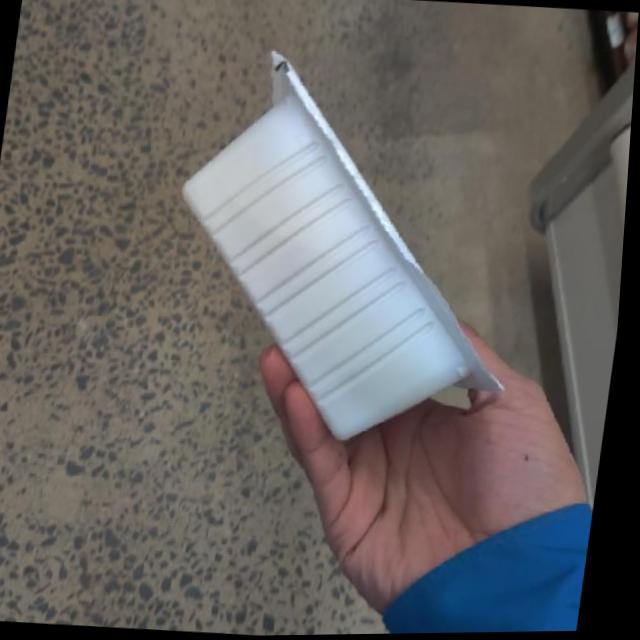Tofu: (148, 46, 539, 451)
